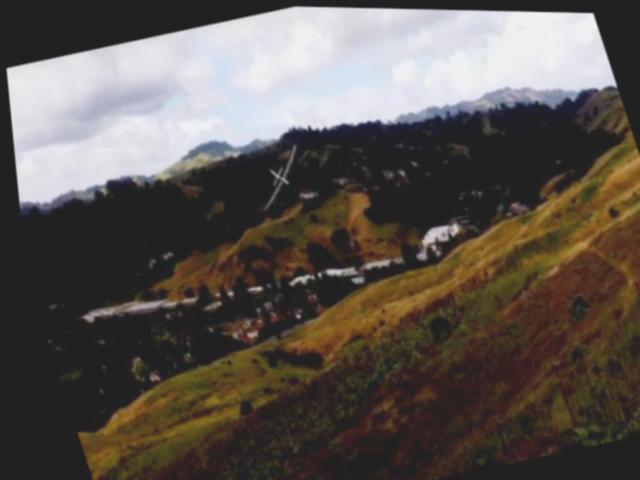iha: (245, 142, 312, 213)
